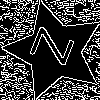Z: (29, 25, 85, 71)
